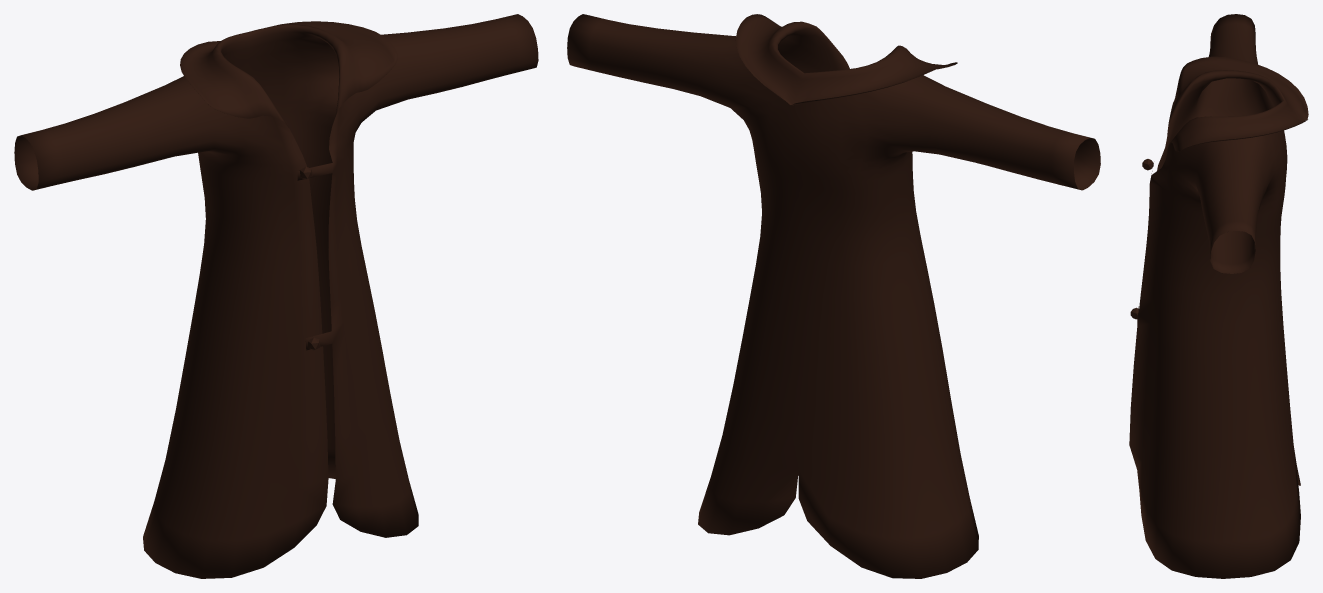
The model's file is Harry_Coat_Boy.fbx.
The picture shows the model from 3 angles, left to right: view 1: azimuth 30°, elevation 25°; view 2: azimuth 150°, elevation 25°; view 3: azimuth 270°, elevation 25°; orthographic projection. The views are drawn at different scales.
Parts seen in each view (by area): view 1: Coat; view 2: Coat; view 3: Coat.
Boxes of the visible parts, x1,y1,x2,y2 form: Coat: (14, 14, 538, 578); Coat: (567, 14, 1100, 578); Coat: (1129, 14, 1308, 578).
Bounding box in the file's own units: 56.62 × 52.11 × 19.69.
